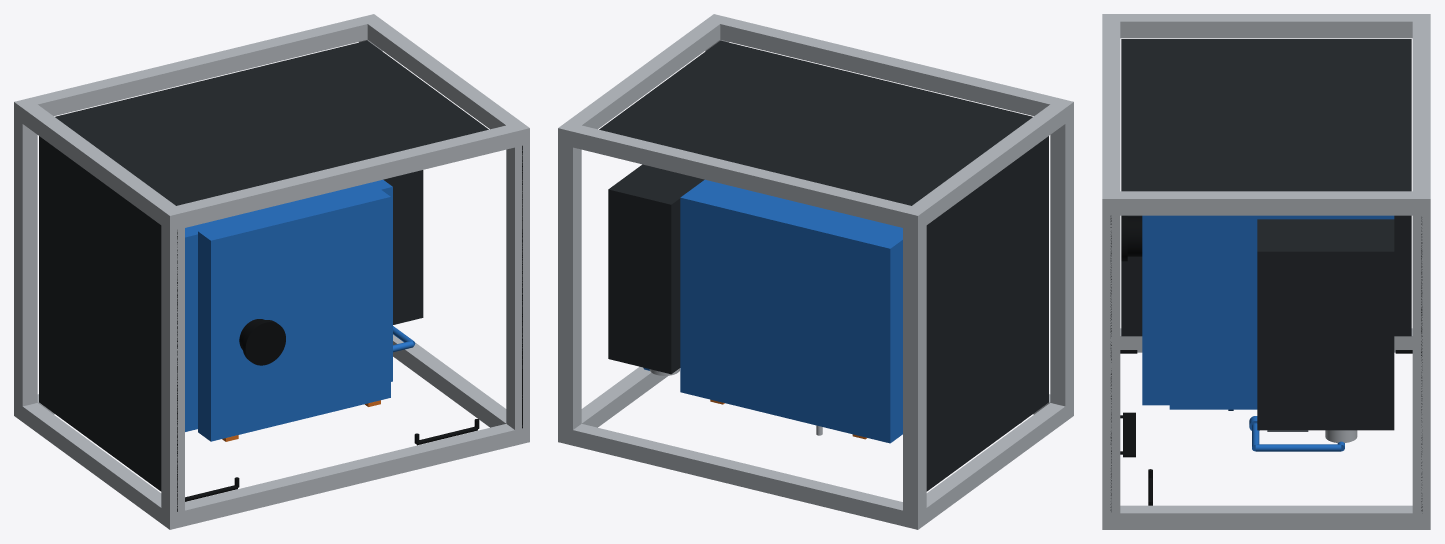
3 renders of one model, left to right at view 1: azimuth 30°, elevation 25°; view 2: azimuth 150°, elevation 25°; view 3: azimuth 270°, elevation 25°, orthographic. The views are drawn at different scales.
Parts seen in each view (by area): view 1: TANK_SHOULDER, BACK_INFILL_PANEL, LEFT_INFILL_PANEL, FRAME_WIDTH_RAIL_08, FRAME_WIDTH_RAIL_06, FRAME_WIDTH_RAIL_07, FRAME_DEPTH_RAIL_10, FRAME_DEPTH_RAIL_09, FRAME_DEPTH_RAIL_12, FRAME_POST_02, FRAME_POST_01, FRAME_POST_04 (+4 smaller); view 2: WATER_TANK, BACK_INFILL_PANEL, LEFT_INFILL_PANEL, PUMP_SERVICE_BAY, FRAME_WIDTH_RAIL_07, FRAME_WIDTH_RAIL_05, FRAME_WIDTH_RAIL_08, FRAME_DEPTH_RAIL_09, FRAME_DEPTH_RAIL_11, FRAME_DEPTH_RAIL_10, FRAME_POST_02, FRAME_POST_01 (+2 smaller); view 3: BACK_INFILL_PANEL, PUMP_SERVICE_BAY, WATER_TANK, FRAME_POST_04, FRAME_POST_03, FRAME_POST_02, FRAME_DEPTH_RAIL_11, FRAME_DEPTH_RAIL_12, TANK_SHOULDER, LEFT_INFILL_PANEL, FRAME_WIDTH_RAIL_07, FRAME_WIDTH_RAIL_08 (+4 smaller).
Boxes of the visible parts, left/top/right/bottom form: TANK_SHOULDER: left=198, top=187, right=390, bottom=441; BACK_INFILL_PANEL: left=55, top=40, right=488, bottom=205; LEFT_INFILL_PANEL: left=39, top=136, right=161, bottom=491; FRAME_WIDTH_RAIL_08: left=177, top=125, right=514, bottom=227; FRAME_WIDTH_RAIL_06: left=185, top=424, right=514, bottom=526; FRAME_WIDTH_RAIL_07: left=29, top=17, right=367, bottom=115; FRAME_DEPTH_RAIL_10: left=161, top=225, right=184, bottom=513; FRAME_DEPTH_RAIL_09: left=14, top=118, right=37, bottom=406; FRAME_DEPTH_RAIL_12: left=506, top=144, right=529, bottom=429; FRAME_POST_02: left=14, top=98, right=184, bottom=231; FRAME_POST_01: left=14, top=400, right=184, bottom=529; FRAME_POST_04: left=359, top=14, right=529, bottom=147; WATER_TANK: left=680, top=179, right=902, bottom=443; BACK_INFILL_PANEL: left=599, top=40, right=1032, bottom=205; LEFT_INFILL_PANEL: left=926, top=136, right=1048, bottom=491; PUMP_SERVICE_BAY: left=608, top=164, right=704, bottom=374; FRAME_WIDTH_RAIL_07: left=573, top=125, right=910, bottom=227; FRAME_WIDTH_RAIL_05: left=573, top=424, right=902, bottom=526; FRAME_WIDTH_RAIL_08: left=720, top=17, right=1058, bottom=115; FRAME_DEPTH_RAIL_09: left=903, top=225, right=926, bottom=513; FRAME_DEPTH_RAIL_11: left=558, top=144, right=581, bottom=429; FRAME_DEPTH_RAIL_10: left=1050, top=118, right=1073, bottom=406; FRAME_POST_02: left=903, top=98, right=1073, bottom=231; FRAME_POST_01: left=903, top=400, right=1073, bottom=529; BACK_INFILL_PANEL: left=1121, top=39, right=1411, bottom=191; PUMP_SERVICE_BAY: left=1257, top=219, right=1394, bottom=430; WATER_TANK: left=1169, top=215, right=1394, bottom=409; FRAME_POST_04: left=1102, top=191, right=1430, bottom=215; FRAME_POST_03: left=1102, top=505, right=1430, bottom=529; FRAME_POST_02: left=1102, top=14, right=1430, bottom=38; FRAME_DEPTH_RAIL_11: left=1412, top=215, right=1430, bottom=513; FRAME_DEPTH_RAIL_12: left=1102, top=215, right=1120, bottom=513; TANK_SHOULDER: left=1142, top=215, right=1169, bottom=405; LEFT_INFILL_PANEL: left=1121, top=215, right=1411, bottom=336; FRAME_WIDTH_RAIL_07: left=1412, top=21, right=1430, bottom=191; FRAME_WIDTH_RAIL_08: left=1102, top=21, right=1120, bottom=191.
Size of the model in its own units: 60.96 by 50.8 by 45.72.
